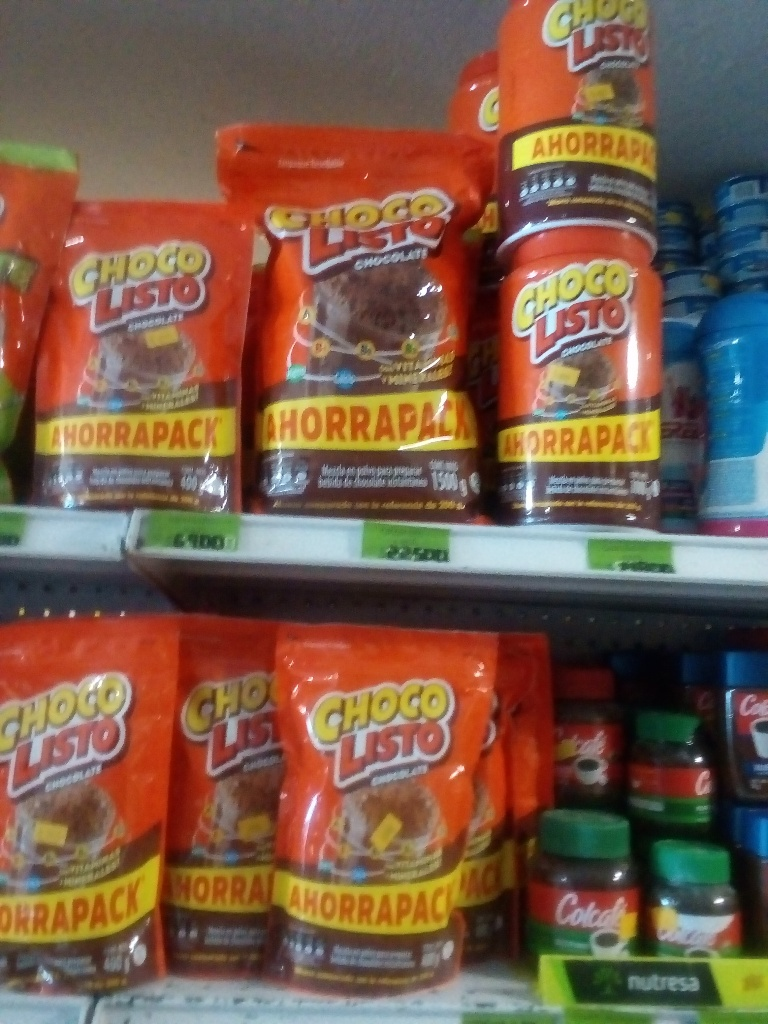COL0170103DYP1,500: (213, 121, 501, 518)
COL0170103DYP40000: (267, 618, 494, 995)
COL0170103TRR00100: (495, 224, 668, 528)
